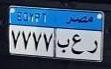7: (32, 31, 43, 53), (11, 29, 21, 51), (43, 32, 53, 53), (22, 31, 32, 52)
ain: (71, 33, 84, 56)
baa: (57, 37, 70, 54)
raa: (85, 38, 99, 56)
